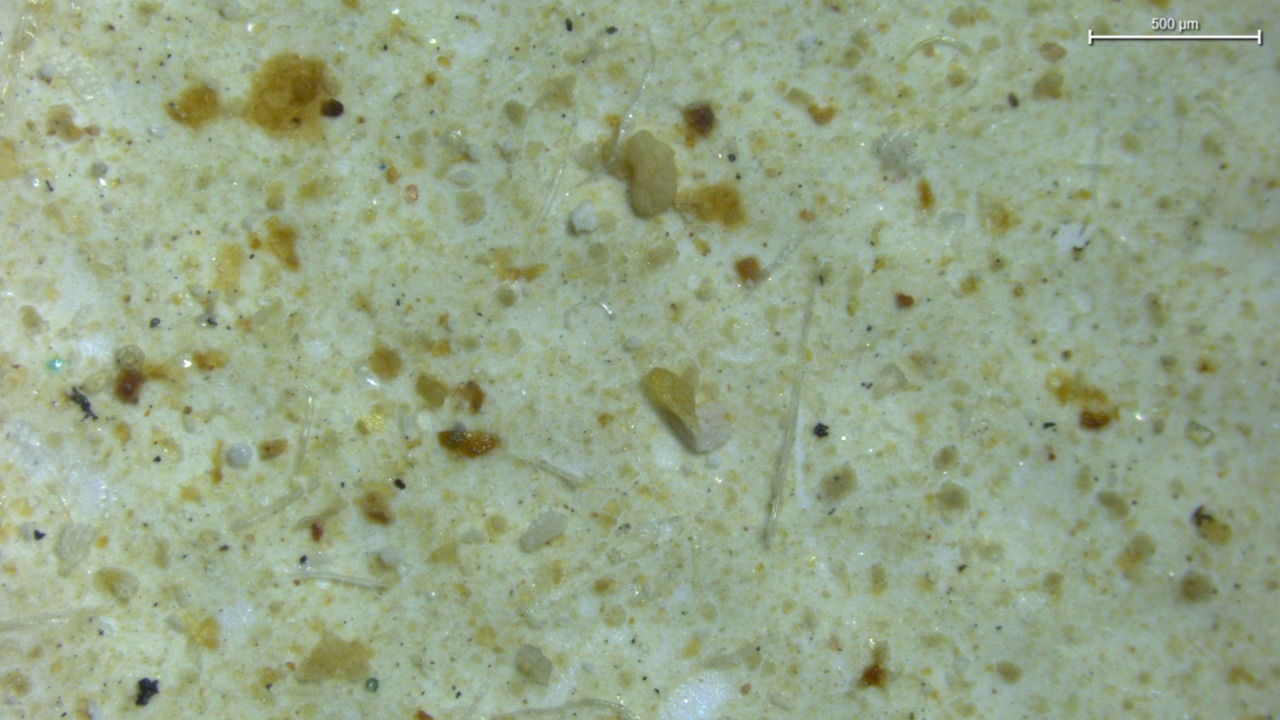microplastic_fragment: (642, 367, 731, 452), (621, 130, 677, 216), (520, 512, 566, 552), (56, 522, 94, 564), (516, 644, 552, 683), (570, 201, 597, 234), (225, 442, 254, 467)
